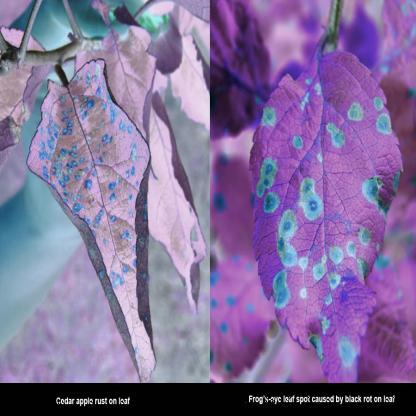Apple rust leaf: (245, 45, 406, 378), (29, 50, 164, 383)
